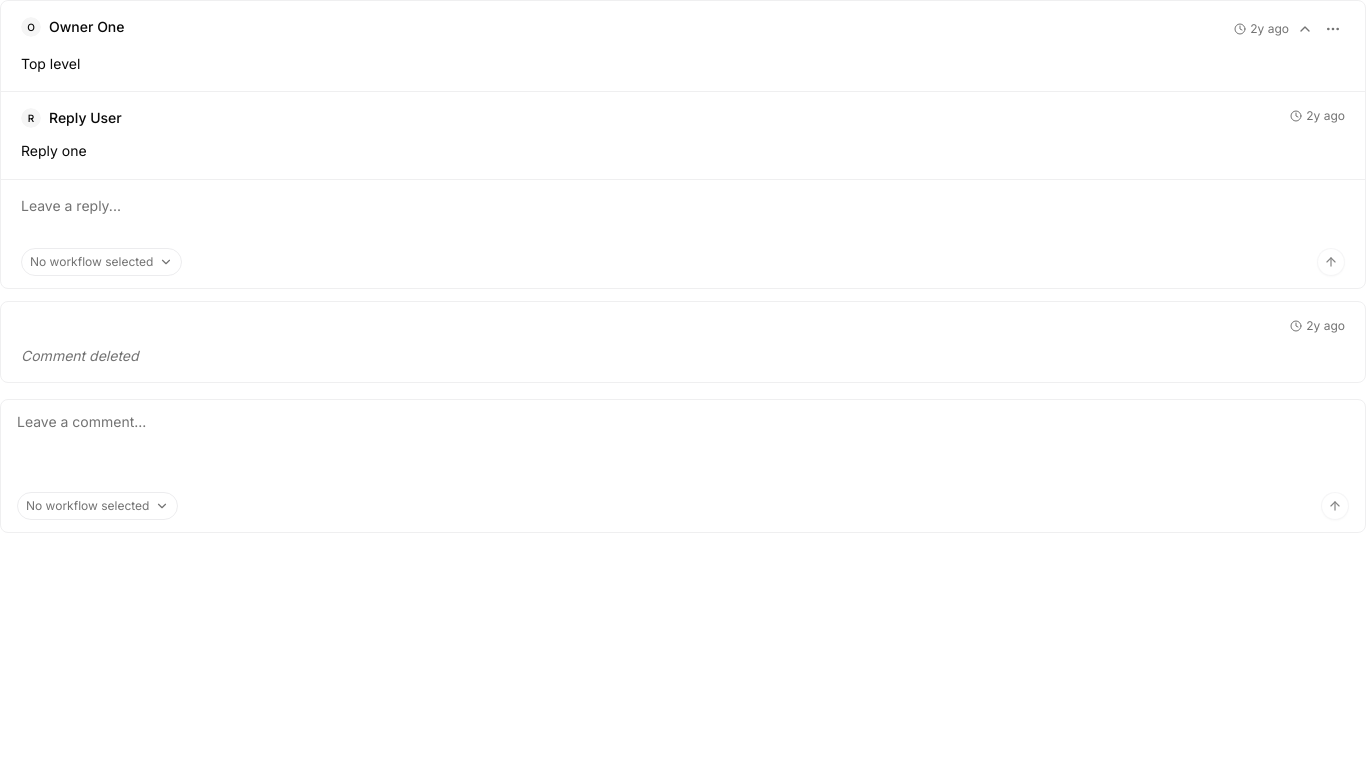
Test case: CommentSection › submits trimmed workflow-backed parent comments and clears the selector
This screenshot has width=1366, height=768.
Expected: the button "No workflow selected" below "Reply one" is shown, [21,248,182,276]
Click the 2nd button "No workflow selected" at point(98, 506), box [17,492,178,520]
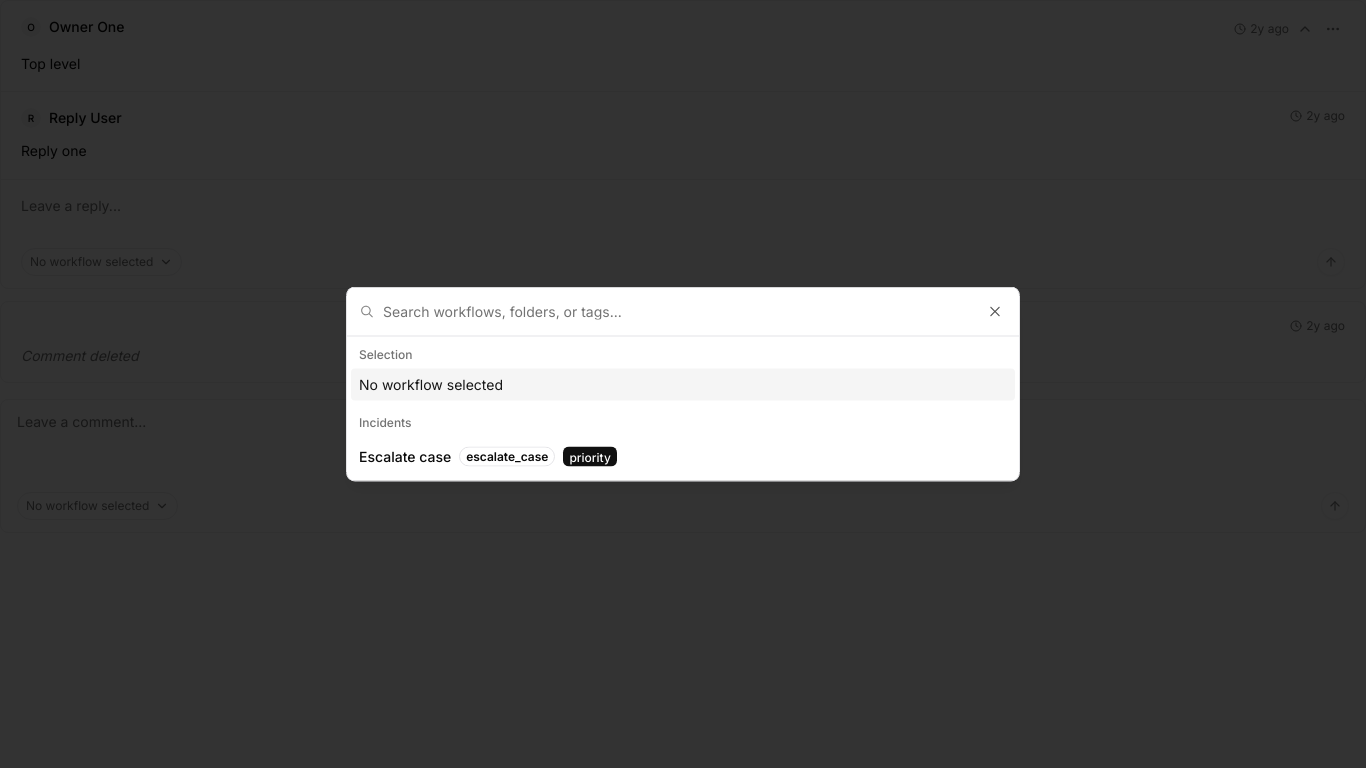
Click the option "Escalate case escalate_case priority" at point(488, 456), box [359,446,617,466]
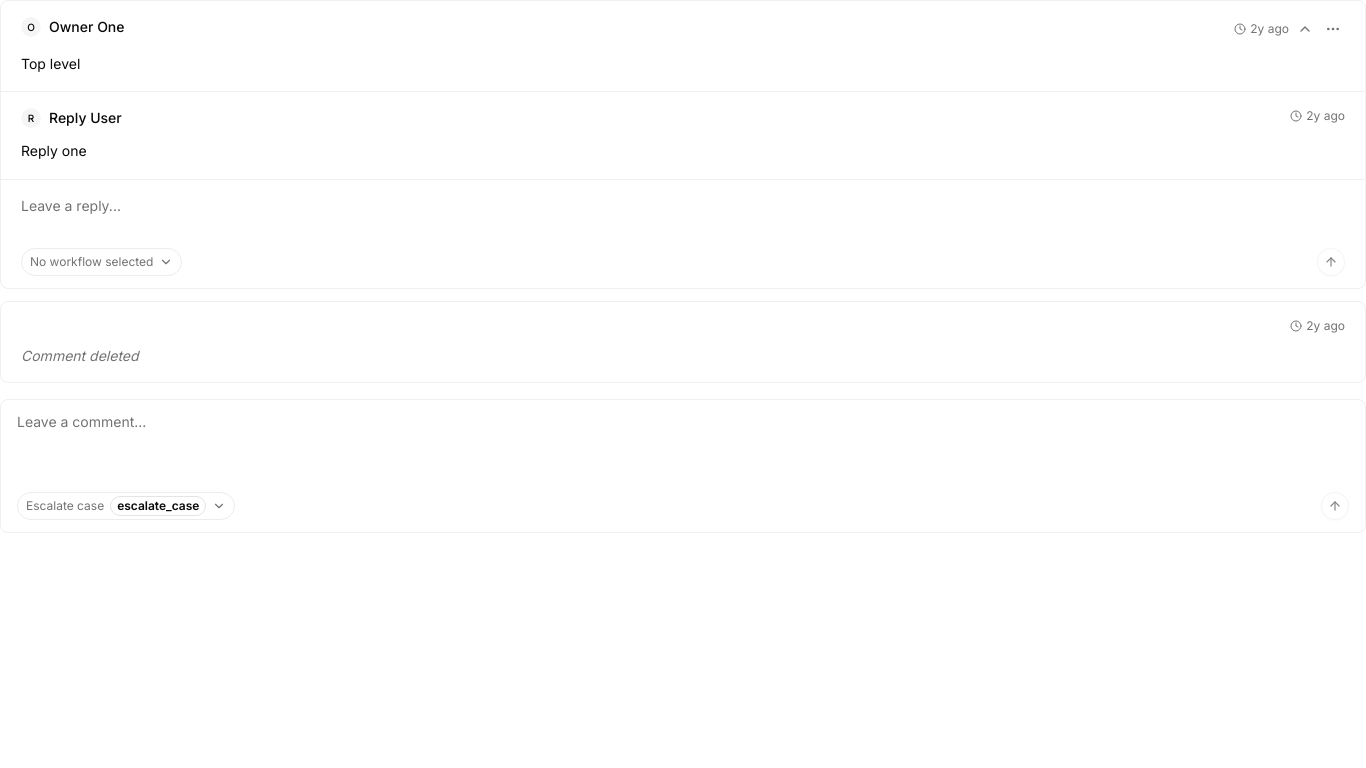
Now the button "Escalate case escalate_case" is shown, box [17,492,235,520]
Type "  Run this workflow  " into the text box with placeholder "Leave a comment..." at point(683, 448), box [17,412,1349,484]
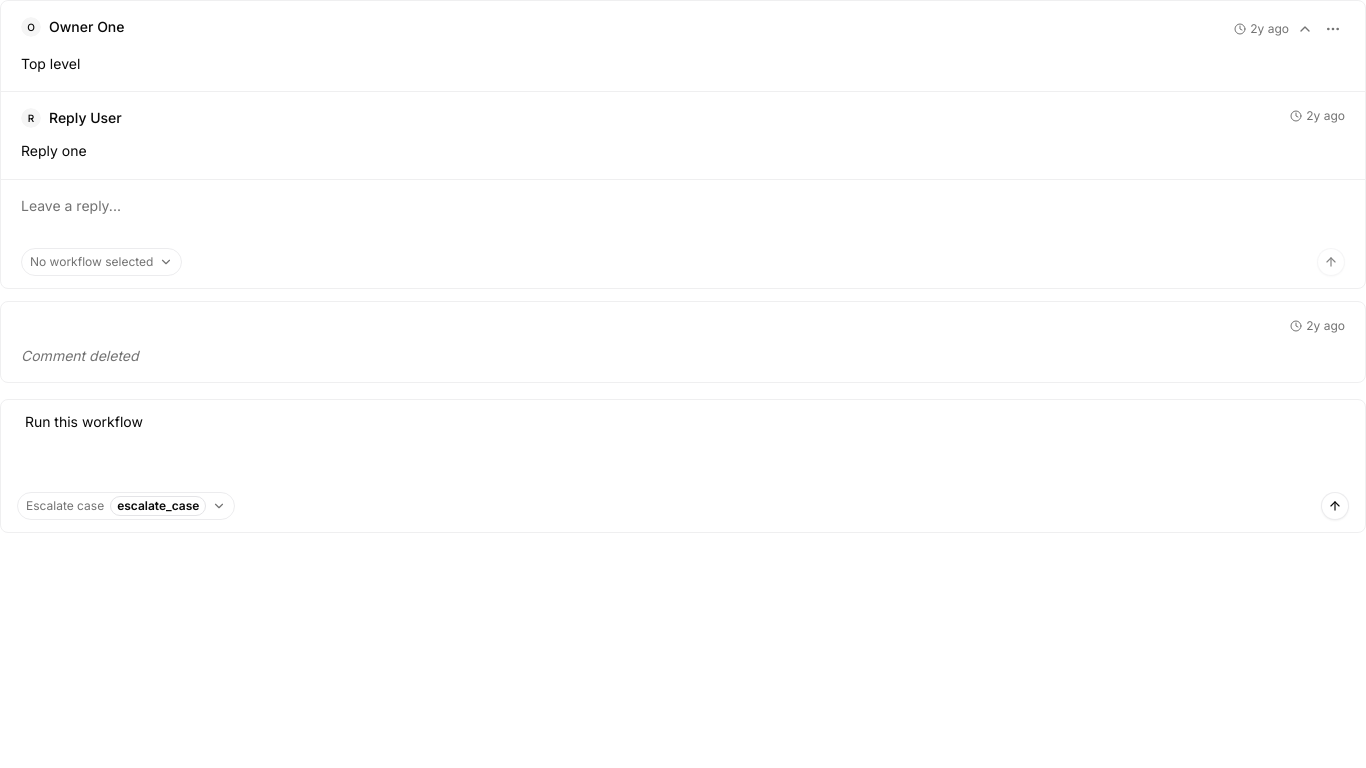
Click the 2nd button named "Send" at point(1335, 506), box [1321,492,1349,520]
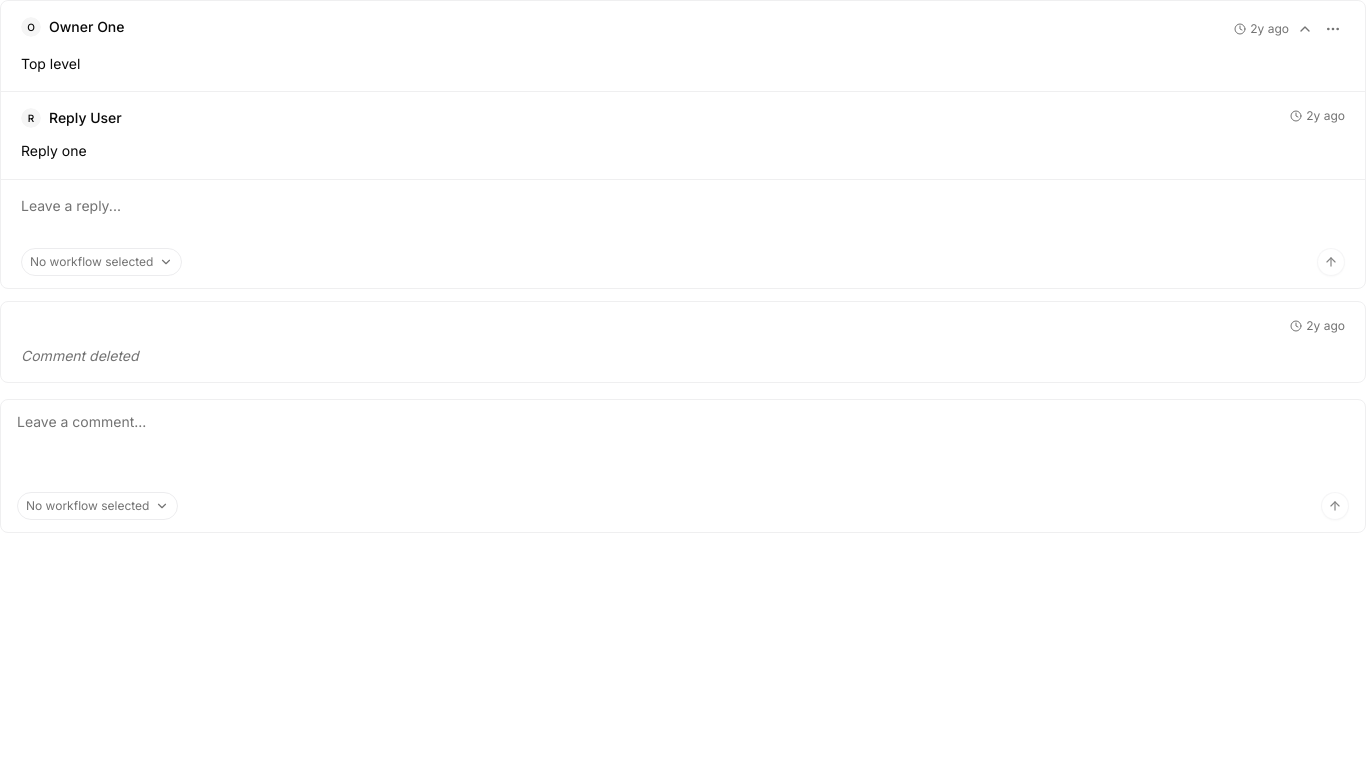
Now the 2nd button "No workflow selected" is shown, box [17,492,178,520]
